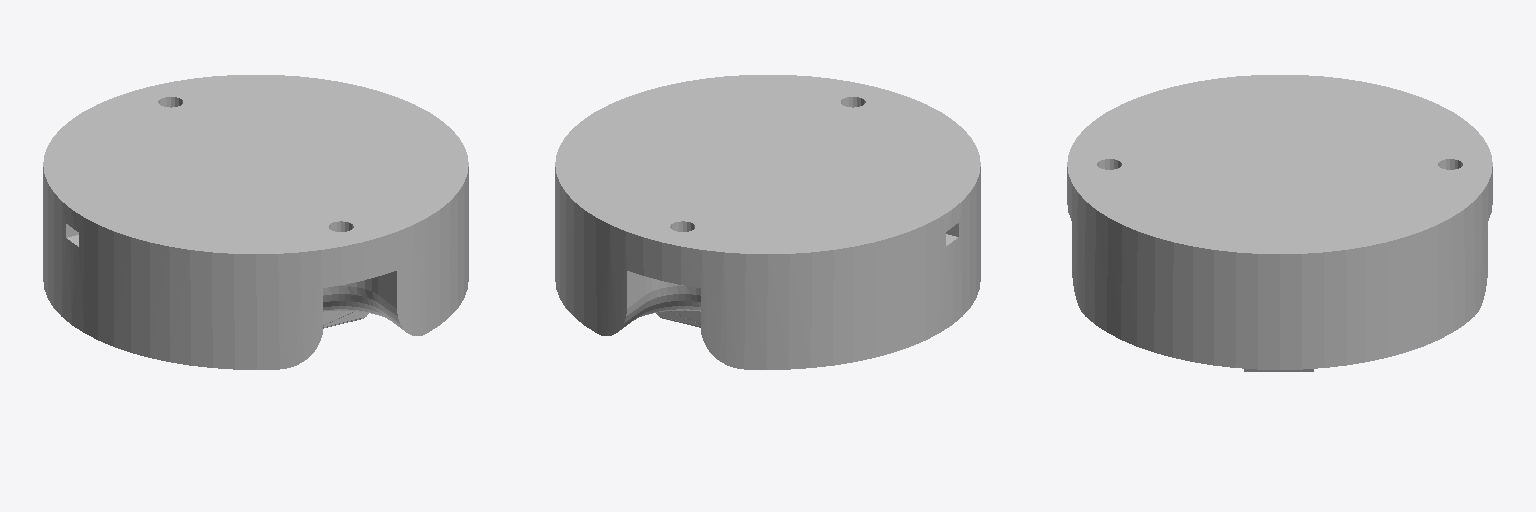
3 views of the same model, side by side, from view 1: azimuth 30°, elevation 25°; view 2: azimuth 150°, elevation 25°; view 3: azimuth 270°, elevation 25° (orthographic).
Visible parts, largest first — view 1: Body1, Body4; view 2: Body1; view 3: Body1.
Part boxes in pixels (x1,y1,x2,y2): Body1: (43,75,468,369); Body4: (323,310,368,328); Body1: (555,75,980,369); Body1: (1067,75,1492,369).
Bounding box in the file's own units: 0.1 × 0.0475 × 0.1.